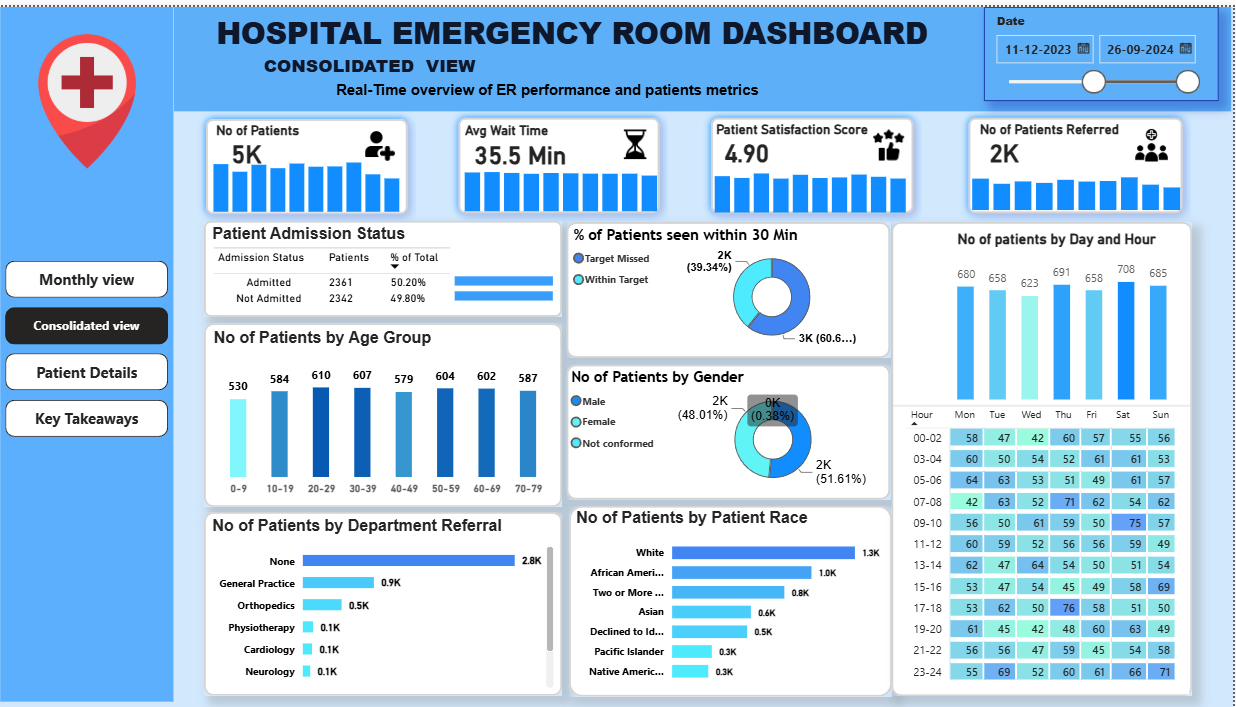

The page's visual inventory and layout, read from the dashboard file:
{"tool":"powerbi","page":{"name":"Consolidated view","canvas":[1333,756],"ordinal":1},"visuals":[{"type":"shape","box":[1.3,0,187.2,751],"z":0},{"type":"shape","box":[189.6,0,1142.9,113],"z":1000},{"type":"textbox","box":[229.6,0,1080.3,71.8],"z":2000},{"type":"textbox","box":[281.7,45.1,300,47.9],"z":3000},{"type":"slicer","fields":{"Values":["Date Table.Date"]},"box":[1065.4,0,253.8,101.3],"z":4000},{"type":"shape","box":[214.9,111.5,235.8,120.8],"z":5000},{"type":"cardVisual","fields":{"Data":["Hospital ER_Data.No of Patients"]},"box":[221.9,125.5,124.3,65.1],"z":6000},{"type":"textbox","box":[230,118.5,202.1,39.5],"z":7000},{"type":"columnChart","fields":{"Category":["Date Table.Month Name"],"Y":["Hospital ER_Data.No of Patients"]},"box":[226.8,147.9,211.3,80.3],"z":8000},{"type":"shape","box":[487.3,111.3,235.2,121.1],"z":9000},{"type":"shape","box":[760.6,111.3,236.6,121.1],"z":10000},{"type":"shape","box":[1039.4,111.3,249.3,121.1],"z":11000},{"type":"textbox","box":[498.6,118.3,201.4,39.4],"z":12000},{"type":"columnChart","fields":{"Category":["Date Table.Month Name"],"Y":["Avg(Hospital ER_Data.Patient Waittime)"]},"box":[498.6,160.6,218.3,66.2],"z":13000},{"type":"cardVisual","fields":{"Data":["Hospital ER_Data.Avg Wait Time"]},"box":[484.5,125.4,173.2,66.2],"z":14000},{"type":"textbox","box":[770.4,116.9,202.8,40.8],"z":15000},{"type":"cardVisual","fields":{"Data":["Hospital ER_Data.Satisfaction Score"]},"box":[754.9,125.4,156.3,64.8],"z":16000},{"type":"columnChart","fields":{"Category":["Date Table.Month Name"],"Y":["Hospital ER_Data.Satisfaction Score"]},"box":[769,160.6,216.9,67.6],"z":17000},{"type":"textbox","box":[1054.9,116.9,201.4,40.8],"z":18000},{"type":"cardVisual","fields":{"Data":["Hospital ER_Data.No of Patients Referred"]},"box":[1042.3,125.4,157.7,64.8],"z":19000},{"type":"columnChart","fields":{"Category":["Date Table.Month Name"],"Y":["Hospital ER_Data.No of Patients Referred"]},"box":[1047.9,157.7,235.2,67.6],"z":20000},{"type":"shape","box":[222.2,230.7,387,104],"z":21000},{"type":"textbox","box":[359.2,76.1,516.9,35.2],"z":22000},{"type":"tableEx","title":"Patient Admission Status","fields":{"Values":["Hospital ER_Data.Admission Status","Hospital ER_Data.No of Patients1","Hospital ER_Data.No of Patients"]},"box":[225.6,234.6,369.2,96],"z":23000},{"type":"barChart","fields":{"Category":["Hospital ER_Data.Admission Status"],"Y":["Hospital ER_Data.No of Patients Referred"]},"box":[488.5,270.5,120.5,61.5],"z":24000},{"type":"shape","box":[221.8,342.3,387.2,198.7],"z":25000},{"type":"clusteredColumnChart","fields":{"Category":["Hospital ER_Data.Age Group"],"Y":["Hospital ER_Data.No of Patients"]},"box":[226.9,347.4,378,188],"z":26000},{"type":"shape","box":[221.8,546.2,387.2,198.7],"z":27000},{"type":"clusteredBarChart","fields":{"Category":["Hospital ER_Data.Department Referral"],"Y":["Hospital ER_Data.No of Patients"]},"box":[225.6,550,379,191],"z":28000},{"type":"shape","box":[614.1,232.1,350,147],"z":29000},{"type":"donutChart","title":"% of Patients seen within 30 Min","fields":{"Category":["Hospital ER_Data.Waittime Status"],"Y":["Hospital ER_Data.No of Patients"]},"box":[616.7,235.9,347.4,135.9],"z":30000},{"type":"shape","box":[614.1,385.9,350,146.2],"z":31000},{"type":"donutChart","title":"No of Patients by Gender","fields":{"Category":["Hospital ER_Data.Patient Gender"],"Y":["Hospital ER_Data.No of Patients"]},"box":[614.1,391,347.4,135.9],"z":32000},{"type":"shape","box":[615.6,539,349.4,206.5],"z":33000},{"type":"clusteredBarChart","fields":{"Y":["Hospital ER_Data.No of Patients"],"Category":["Hospital ER_Data.Patient Race"]},"box":[619.5,541.6,342.9,197.4],"z":34000},{"type":"shape","box":[964.8,233,325,512.5],"z":35000},{"type":"pivotTable","fields":{"Rows":["Hospital ER_Data.Waittime Interval"],"Columns":["Date Table.Day Name"],"Values":["Hospital ER_Data.No of Patients"]},"box":[976.1,427.3,311.4,315.9],"z":36000},{"type":"columnChart","title":"No of patients by Day and Hour","fields":{"Category":["Date Table.Day Name"],"Y":["Hospital ER_Data.No of Patients"]},"box":[1030.7,242,237.5,188.6],"z":37000},{"type":"shape","box":[964.8,280.7,322.7,300],"z":38000},{"type":"image","box":[15.5,15.5,160.6,173.2],"z":39000},{"type":"image","box":[1228.2,126.8,35.2,45.1],"z":40000},{"type":"image","box":[395.8,126.8,32.4,46.5],"z":41000},{"type":"image","box":[938,132.4,47.9,33.8],"z":42000},{"type":"image","box":[657.7,132.4,59.2,32.4],"z":43000},{"type":"pageNavigator","box":[7,274.6,176.1,193],"z":44000}]}

Visuals, with their boxes in screenshot pixels (x1, y1, x2, y2), scaled from the page's 1333x756 canvas onto the 1236x707 screenshot:
shape: [1,0,175,702]
shape: [176,0,1235,106]
textbox: [213,0,1215,67]
textbox: [261,42,539,87]
slicer - Date Table.Date: [988,0,1223,95]
shape: [199,104,418,217]
cardVisual - Hospital ER_Data.No of Patients: [206,117,321,178]
textbox: [213,111,401,148]
columnChart - Date Table.Month Name x Hospital ER_Data.No of Patients: [210,138,406,213]
shape: [452,104,670,217]
shape: [705,104,925,217]
shape: [964,104,1195,217]
textbox: [462,111,649,147]
columnChart - Date Table.Month Name x Avg(Hospital ER_Data.Patient Waittime): [462,150,665,212]
cardVisual - Hospital ER_Data.Avg Wait Time: [449,117,610,179]
textbox: [714,109,902,147]
cardVisual - Hospital ER_Data.Satisfaction Score: [700,117,845,178]
columnChart - Date Table.Month Name x Hospital ER_Data.Satisfaction Score: [713,150,914,213]
textbox: [978,109,1165,147]
cardVisual - Hospital ER_Data.No of Patients Referred: [966,117,1113,178]
columnChart - Date Table.Month Name x Hospital ER_Data.No of Patients Referred: [972,147,1190,211]
shape: [206,216,565,313]
textbox: [333,71,812,104]
"Patient Admission Status" tableEx: [209,219,552,309]
barChart - Hospital ER_Data.Admission Status x Hospital ER_Data.No of Patients Referred: [453,253,565,310]
shape: [206,320,565,506]
clusteredColumnChart - Hospital ER_Data.Age Group x Hospital ER_Data.No of Patients: [210,325,561,501]
shape: [206,511,565,697]
clusteredBarChart - Hospital ER_Data.Department Referral x Hospital ER_Data.No of Patients: [209,514,561,693]
shape: [569,217,894,355]
"% of Patients seen within 30 Min" donutChart: [572,221,894,348]
shape: [569,361,894,498]
"No of Patients by Gender" donutChart: [569,366,892,493]
shape: [571,504,895,697]
clusteredBarChart - Hospital ER_Data.No of Patients x Hospital ER_Data.Patient Race: [574,506,892,691]
shape: [895,218,1196,697]
pivotTable - Hospital ER_Data.Waittime Interval x Date Table.Day Name: [905,400,1194,695]
"No of patients by Day and Hour" columnChart: [956,226,1176,403]
shape: [895,263,1194,543]
image: [14,14,163,176]
image: [1139,119,1171,161]
image: [367,119,397,162]
image: [870,124,914,155]
image: [610,124,665,154]
pageNavigator: [6,257,170,437]
